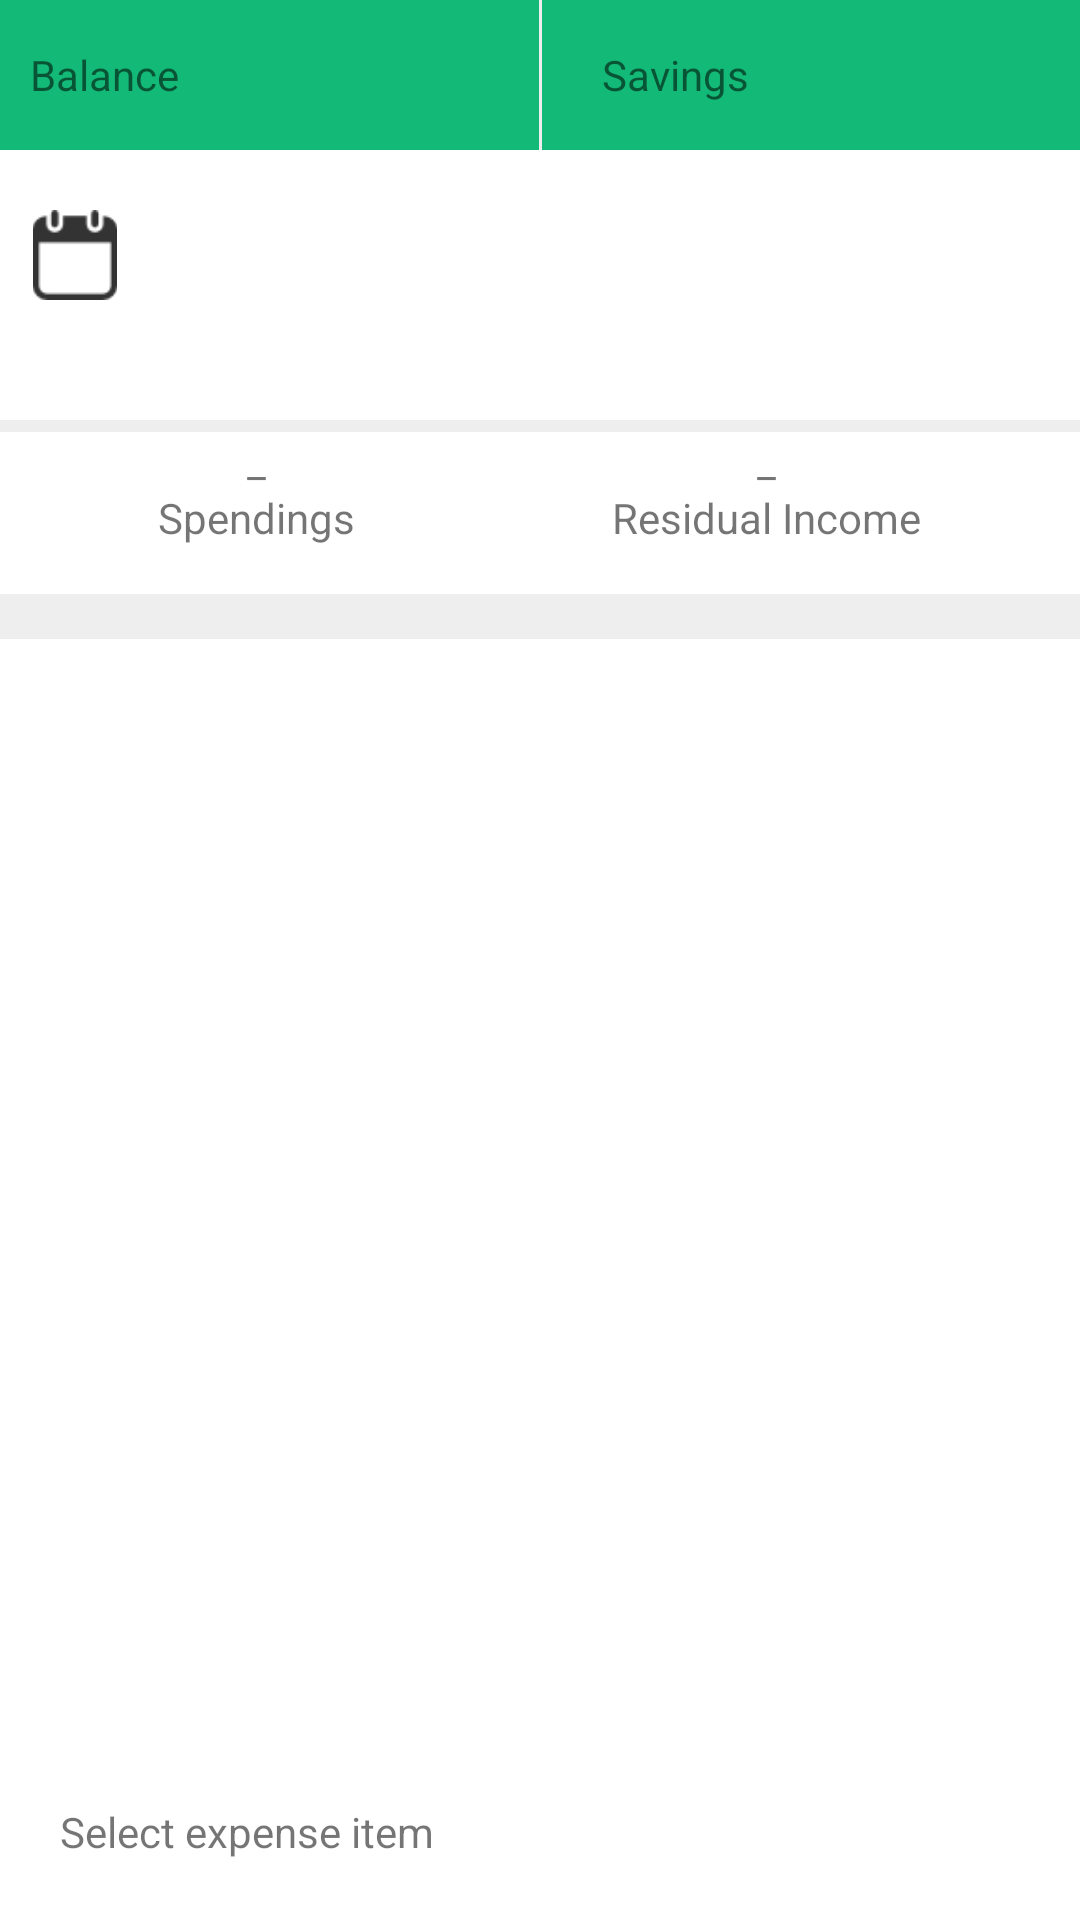

Screen size 1080x1920. Icon name, then its box in pixels as (x1, y1, x2, y2):
calendar: (33, 210, 117, 300)
